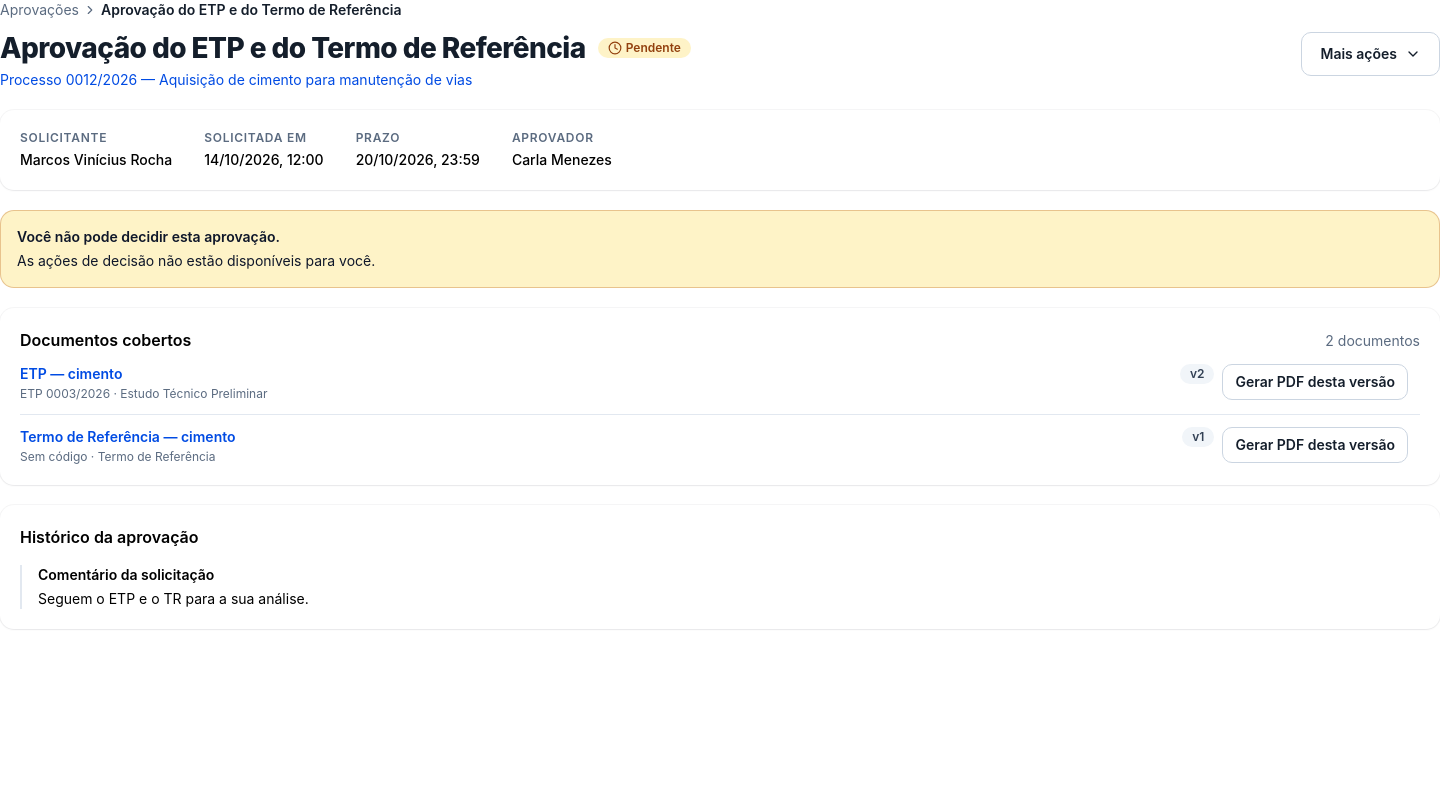
Test: SCR-015 · Redirecionar aprovação (US-053 · FA-02) › [Validação] sem novo aprovador e sem motivo: não envia e marca os campos
This screenshot has width=1440, height=810.
Click the button "Mais ações".
click(1371, 54)  # box [1302,32,1439,76]
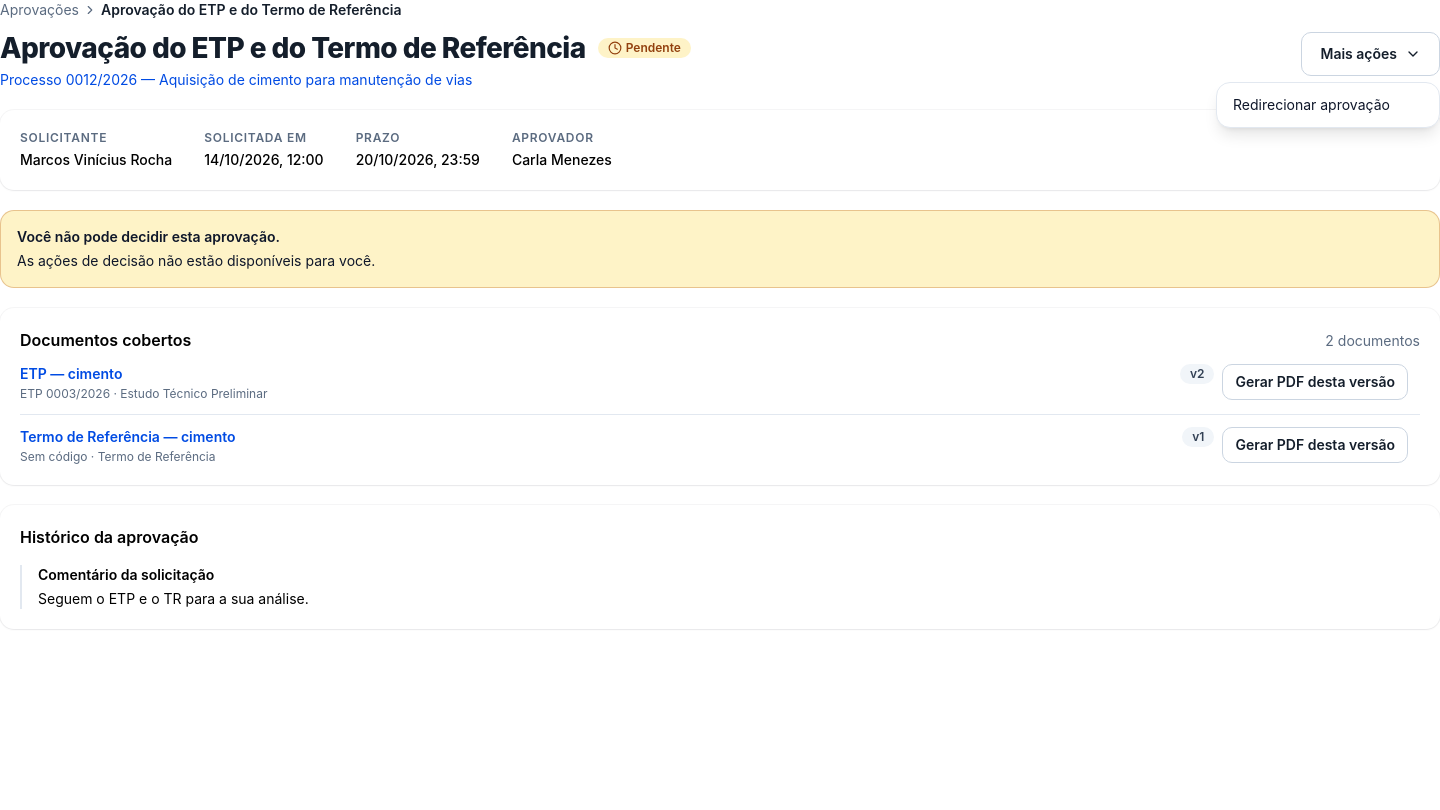
Click the menu item "Redirecionar aprovação".
click(1311, 104)  # box [1233,96,1390,113]
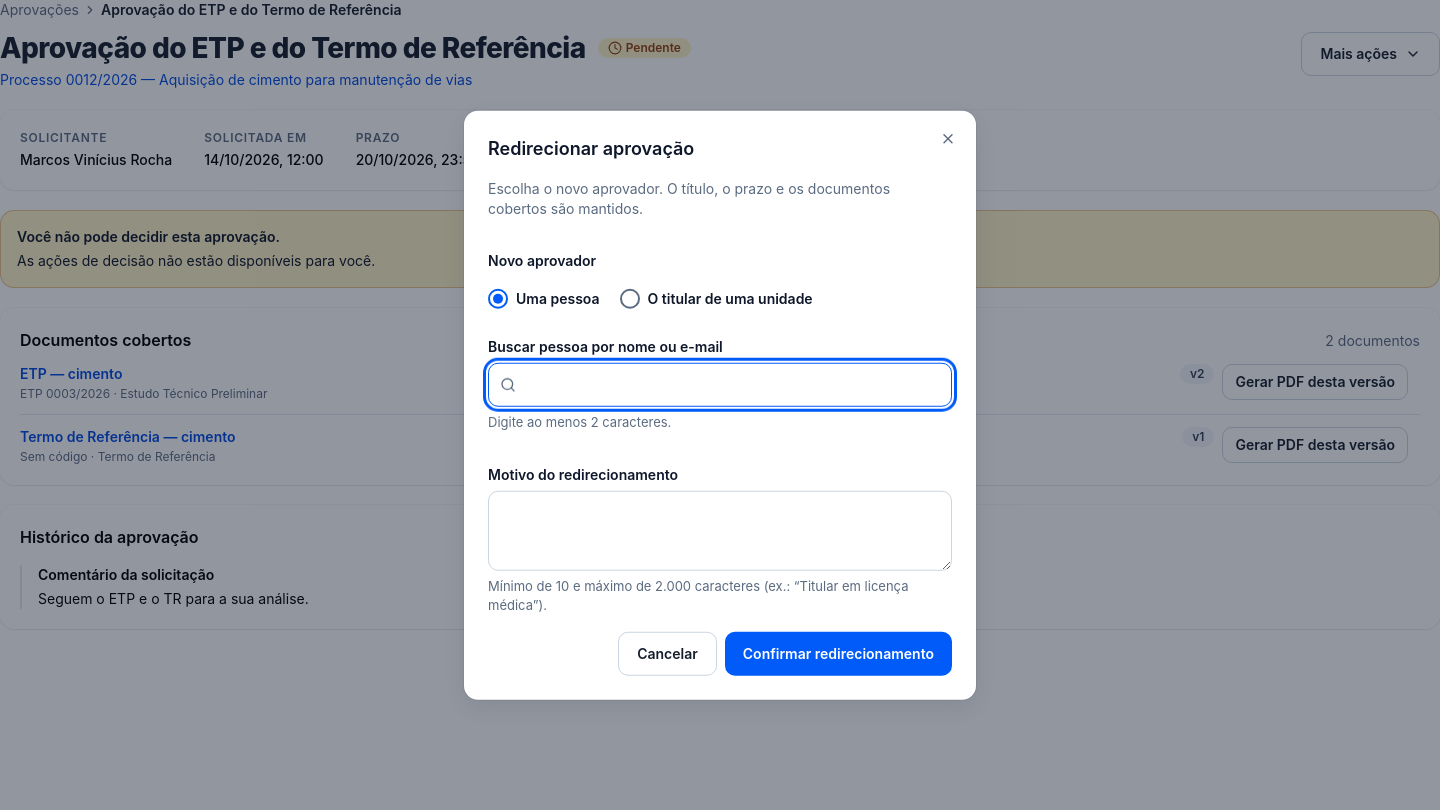
Type "curto" into the text box labelled "Motivo do redirecionamento".
click(720, 530); type("curto")  # box [488,490,952,570]
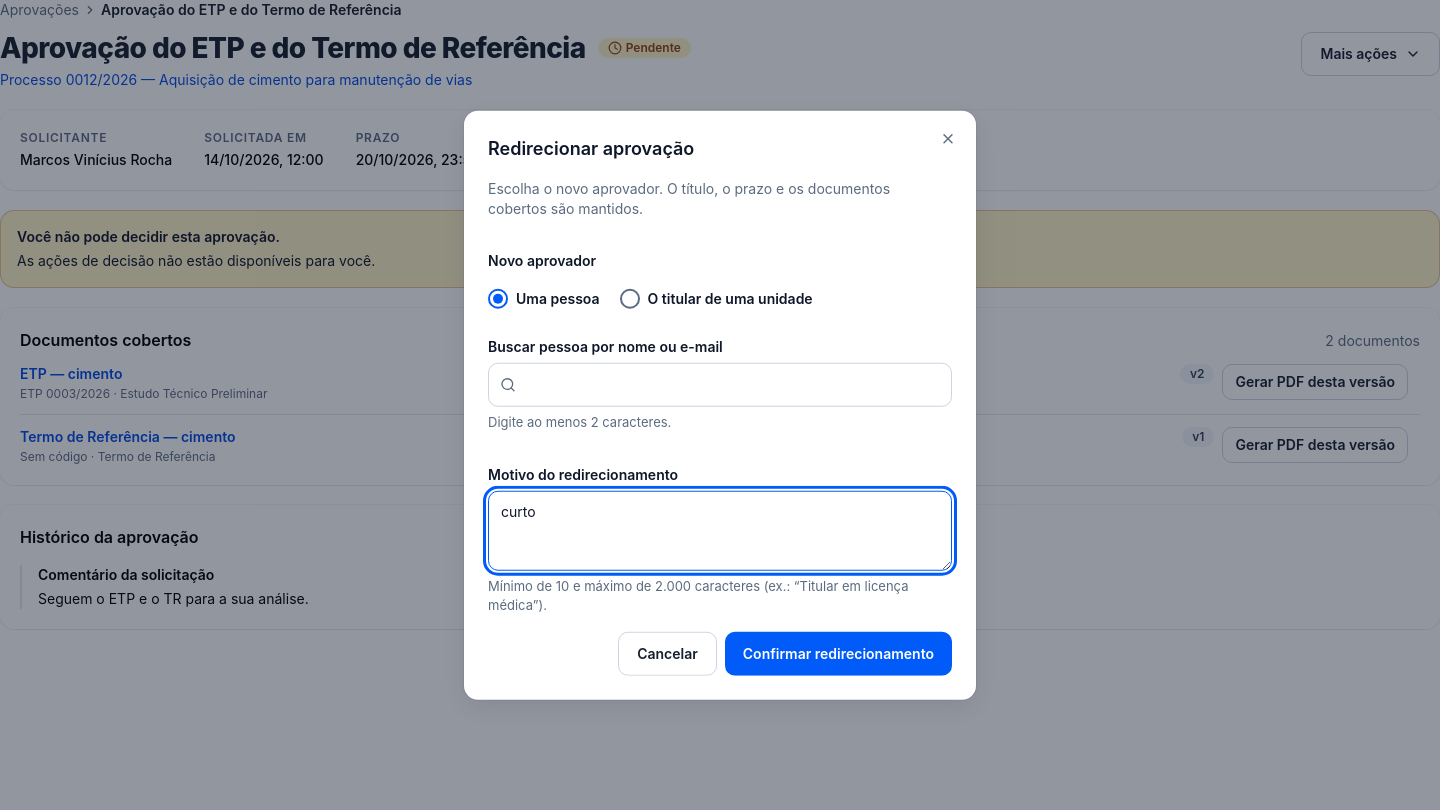
Click the button "Confirmar redirecionamento".
click(838, 653)  # box [725,631,952,675]
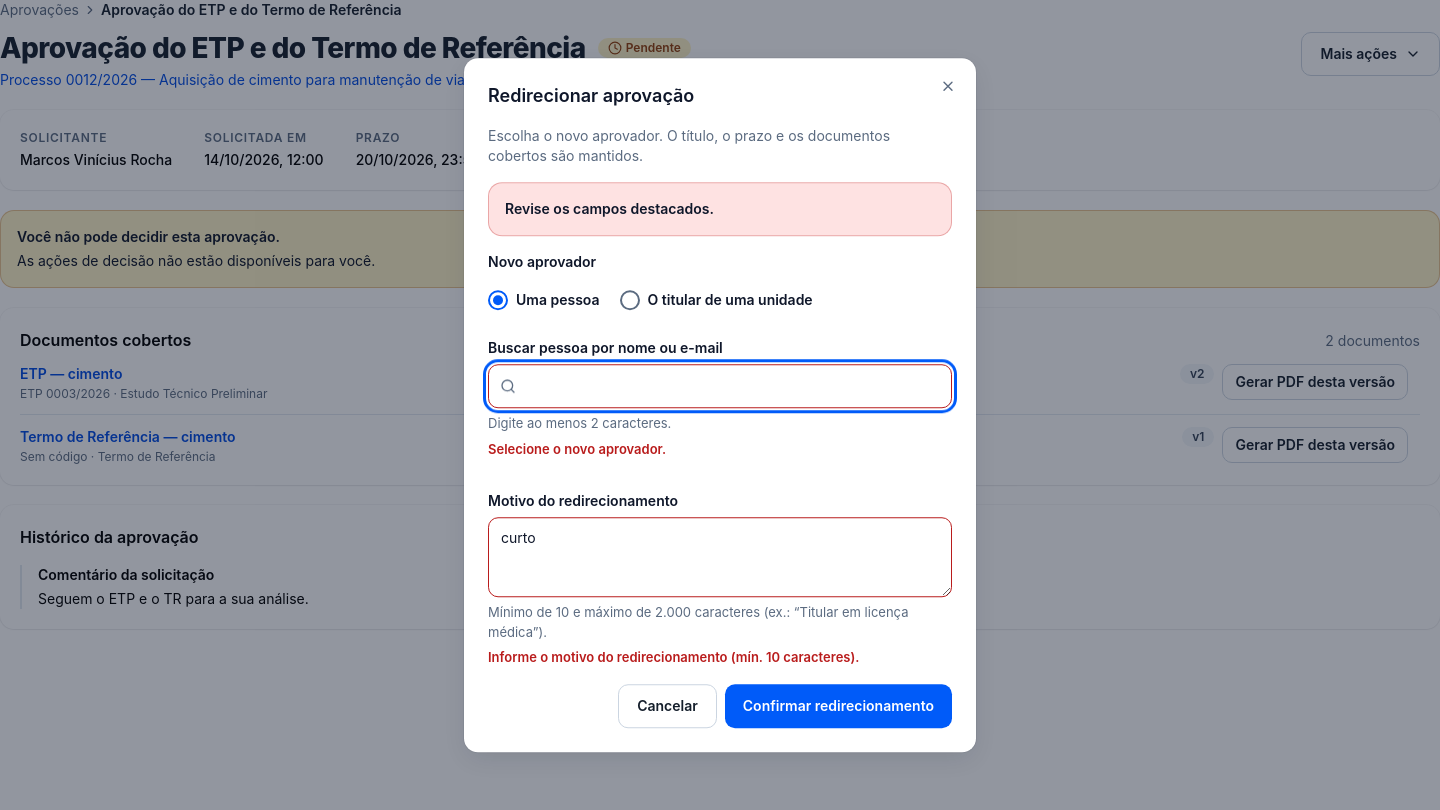
Expected: the text "Revise os campos destacados." is shown, [505,200,714,217]
Expected: the text "Selecione o novo aprovador." is shown, [488,441,666,457]
Expected: the text "Informe o motivo do redirecionamento (mín. 10 caracteres)." is shown, [488,649,860,665]
